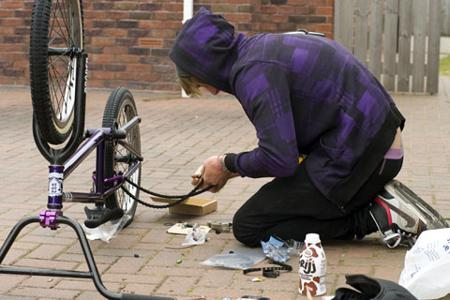person: (166, 6, 450, 248)
